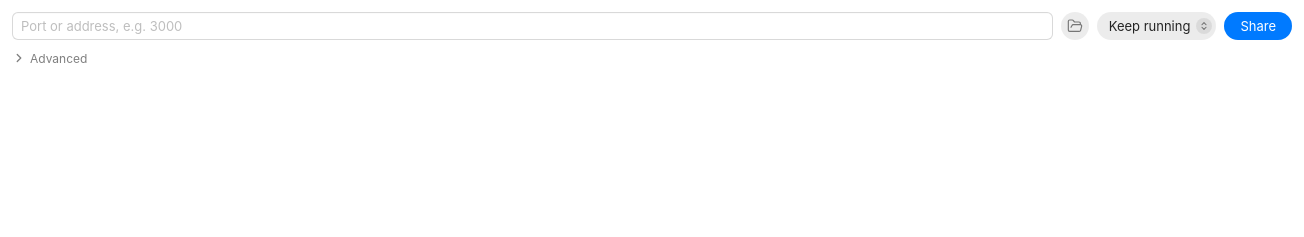
the exposure check before sharing › can be cancelled
Type "3000" into the dropdown labelled "Port or address" at (532, 26), box [12,12,1053,40]
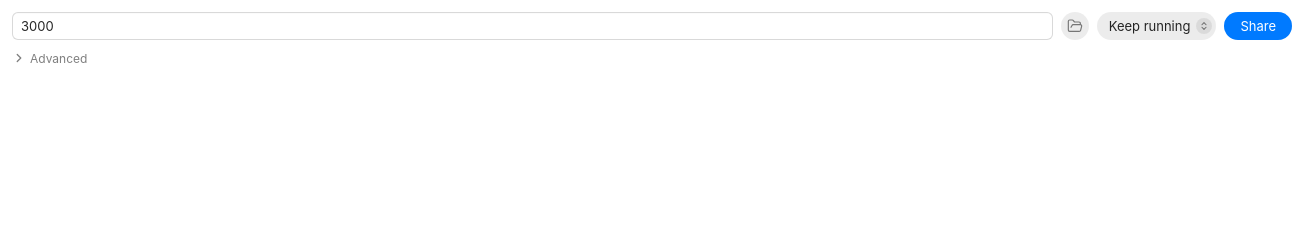
Click the button "Share" at (1258, 26), box [1224,12,1292,40]
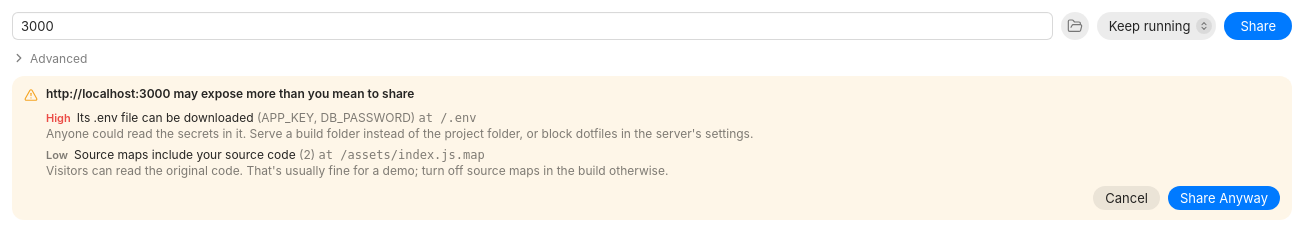
Now the button "Share Anyway" is shown, box [1168,186,1280,210]
Click the button "Cancel" at (1127, 198), box [1093,186,1160,210]
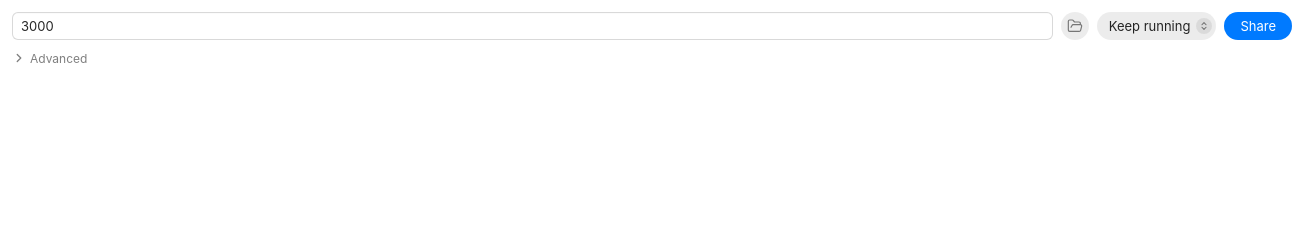
Now the button "Share Anyway" is gone
